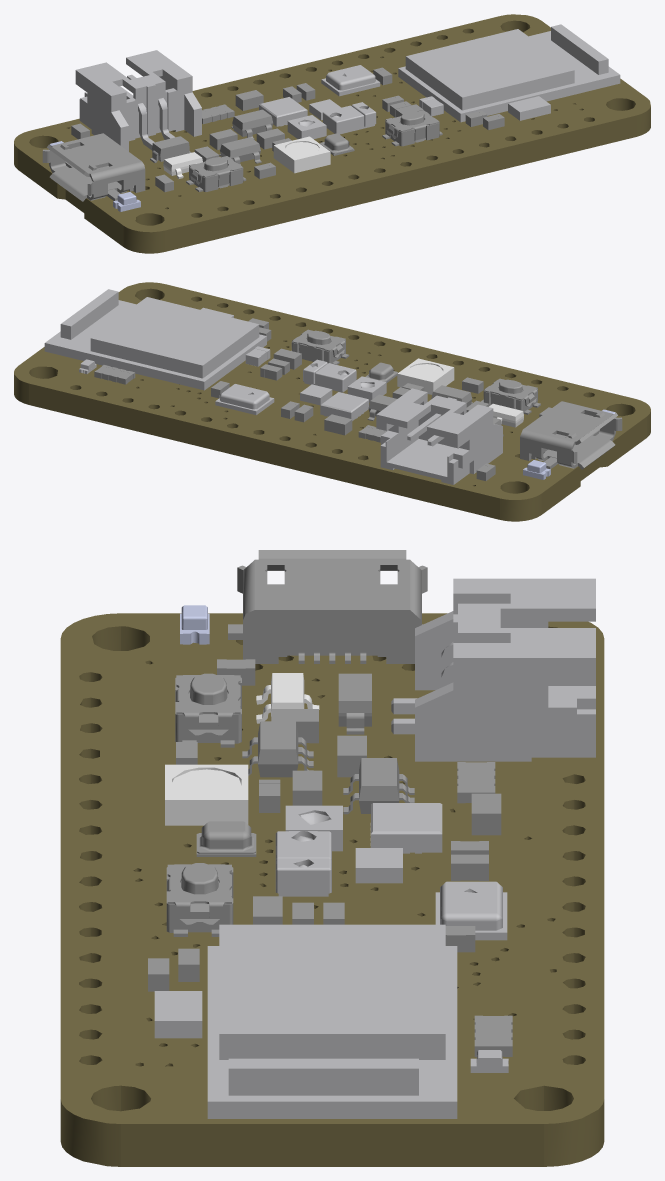
Rendered from ada-4516.glb.
3 views of the same model, one above another, from view 1: azimuth 30°, elevation 25°; view 2: azimuth 150°, elevation 25°; view 3: azimuth 270°, elevation 25° (orthographic). The views are drawn at different scales.
Visible parts, largest first — view 1: 0.16666666666666666_0.16666666666666666_0.08333333333333333_, 0.5833333333333334_0.5833333333333334_0.5833333333333334_0.8, 0.3333333333333333_0.3333333333333333_0.3333333333333333_0, 0.9166666666666666_0.9166666666666666_0.9166666666666666_0.8, 0.5833333333333334_0.6666666666666666_0.8333333333333334_0; view 2: 0.16666666666666666_0.16666666666666666_0.08333333333333333_, 0.5833333333333334_0.5833333333333334_0.5833333333333334_0.8, 0.3333333333333333_0.3333333333333333_0.3333333333333333_0, 0.9166666666666666_0.9166666666666666_0.9166666666666666_0.8, 0.5833333333333334_0.6666666666666666_0.8333333333333334_0; view 3: 0.16666666666666666_0.16666666666666666_0.08333333333333333_, 0.5833333333333334_0.5833333333333334_0.5833333333333334_0.8, 0.3333333333333333_0.3333333333333333_0.3333333333333333_0, 0.9166666666666666_0.9166666666666666_0.9166666666666666_0.8, 0.5833333333333334_0.6666666666666666_0.8333333333333334_0.
Boxes of the visible parts, x1,y1,x2,y2 form: 0.16666666666666666_0.16666666666666666_0.08333333333333333_: (14, 14, 650, 253); 0.5833333333333334_0.5833333333333334_0.5833333333333334_0.8: (75, 24, 620, 151); 0.3333333333333333_0.3333333333333333_0.3333333333333333_0: (42, 38, 504, 201); 0.9166666666666666_0.9166666666666666_0.9166666666666666_0.8: (163, 136, 330, 178); 0.5833333333333334_0.6666666666666666_0.8333333333333334_0: (49, 141, 140, 211); 0.16666666666666666_0.16666666666666666_0.08333333333333333_: (14, 282, 650, 521); 0.5833333333333334_0.5833333333333334_0.5833333333333334_0.8: (44, 289, 502, 484); 0.3333333333333333_0.3333333333333333_0.3333333333333333_0: (94, 318, 622, 480); 0.9166666666666666_0.9166666666666666_0.9166666666666666_0.8: (397, 358, 523, 427); 0.5833333333333334_0.6666666666666666_0.8333333333333334_0: (523, 409, 616, 479); 0.16666666666666666_0.16666666666666666_0.08333333333333333_: (60, 613, 604, 1166); 0.5833333333333334_0.5833333333333334_0.5833333333333334_0.8: (154, 578, 595, 1118); 0.3333333333333333_0.3333333333333333_0.3333333333333333_0: (148, 550, 512, 1056); 0.9166666666666666_0.9166666666666666_0.9166666666666666_0.8: (165, 673, 319, 825); 0.5833333333333334_0.6666666666666666_0.8333333333333334_0: (180, 605, 209, 644).
Size of the model in its own units: 5.14 by 0.679 by 2.29.
